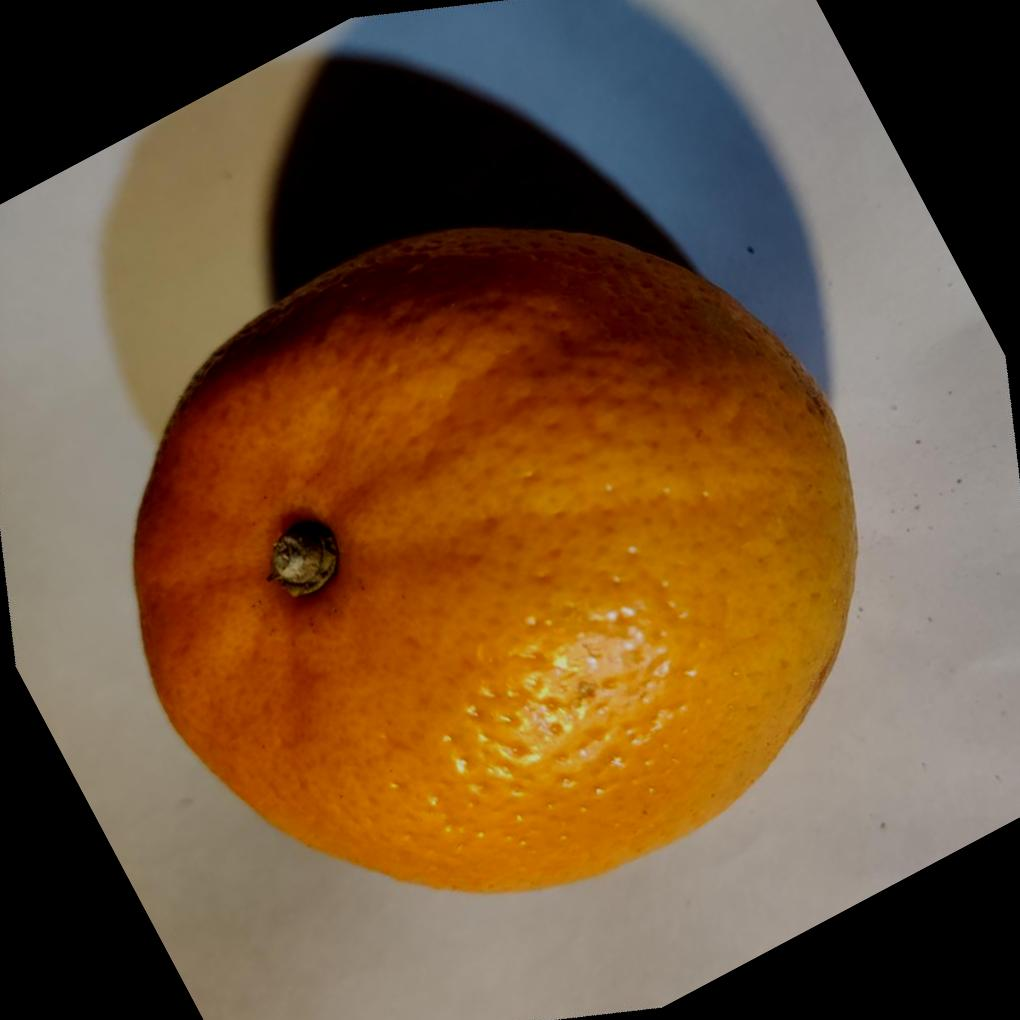FreshGuava: (132, 225, 861, 900)
